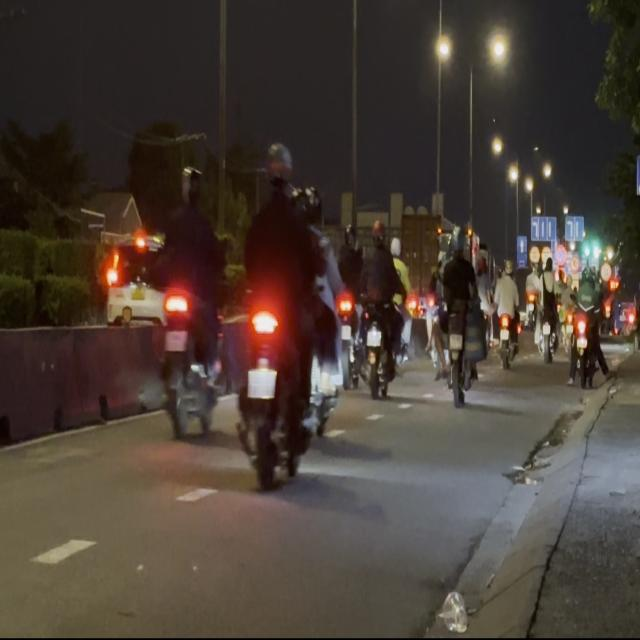helmet: (262, 141, 293, 196), (179, 163, 202, 204)
licenseplate: (231, 138, 341, 489), (156, 161, 227, 438)
nohelmet: (247, 368, 276, 398), (164, 330, 188, 352)
